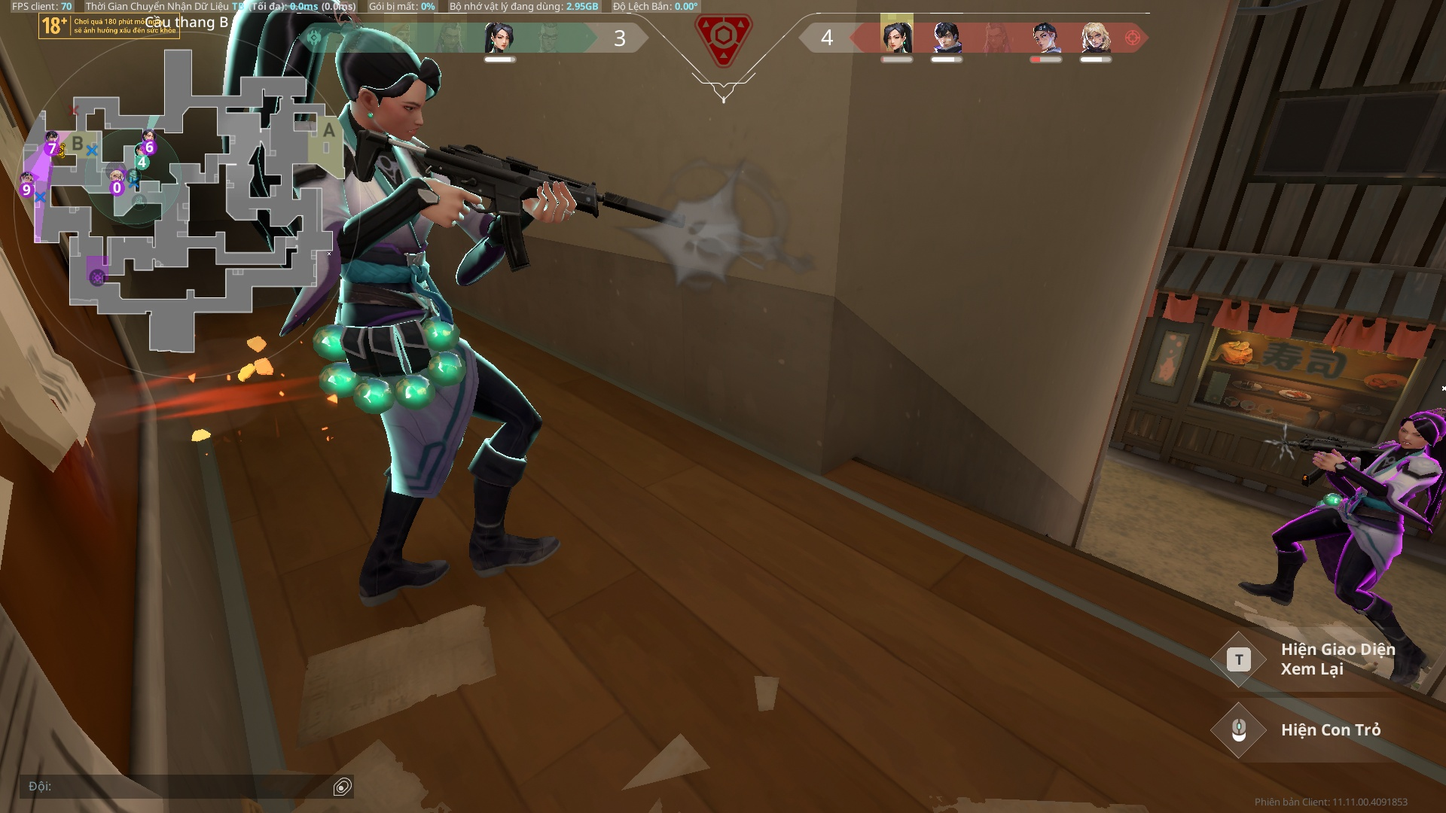body: (1364, 433, 1437, 532)
head: (1400, 409, 1429, 454)
